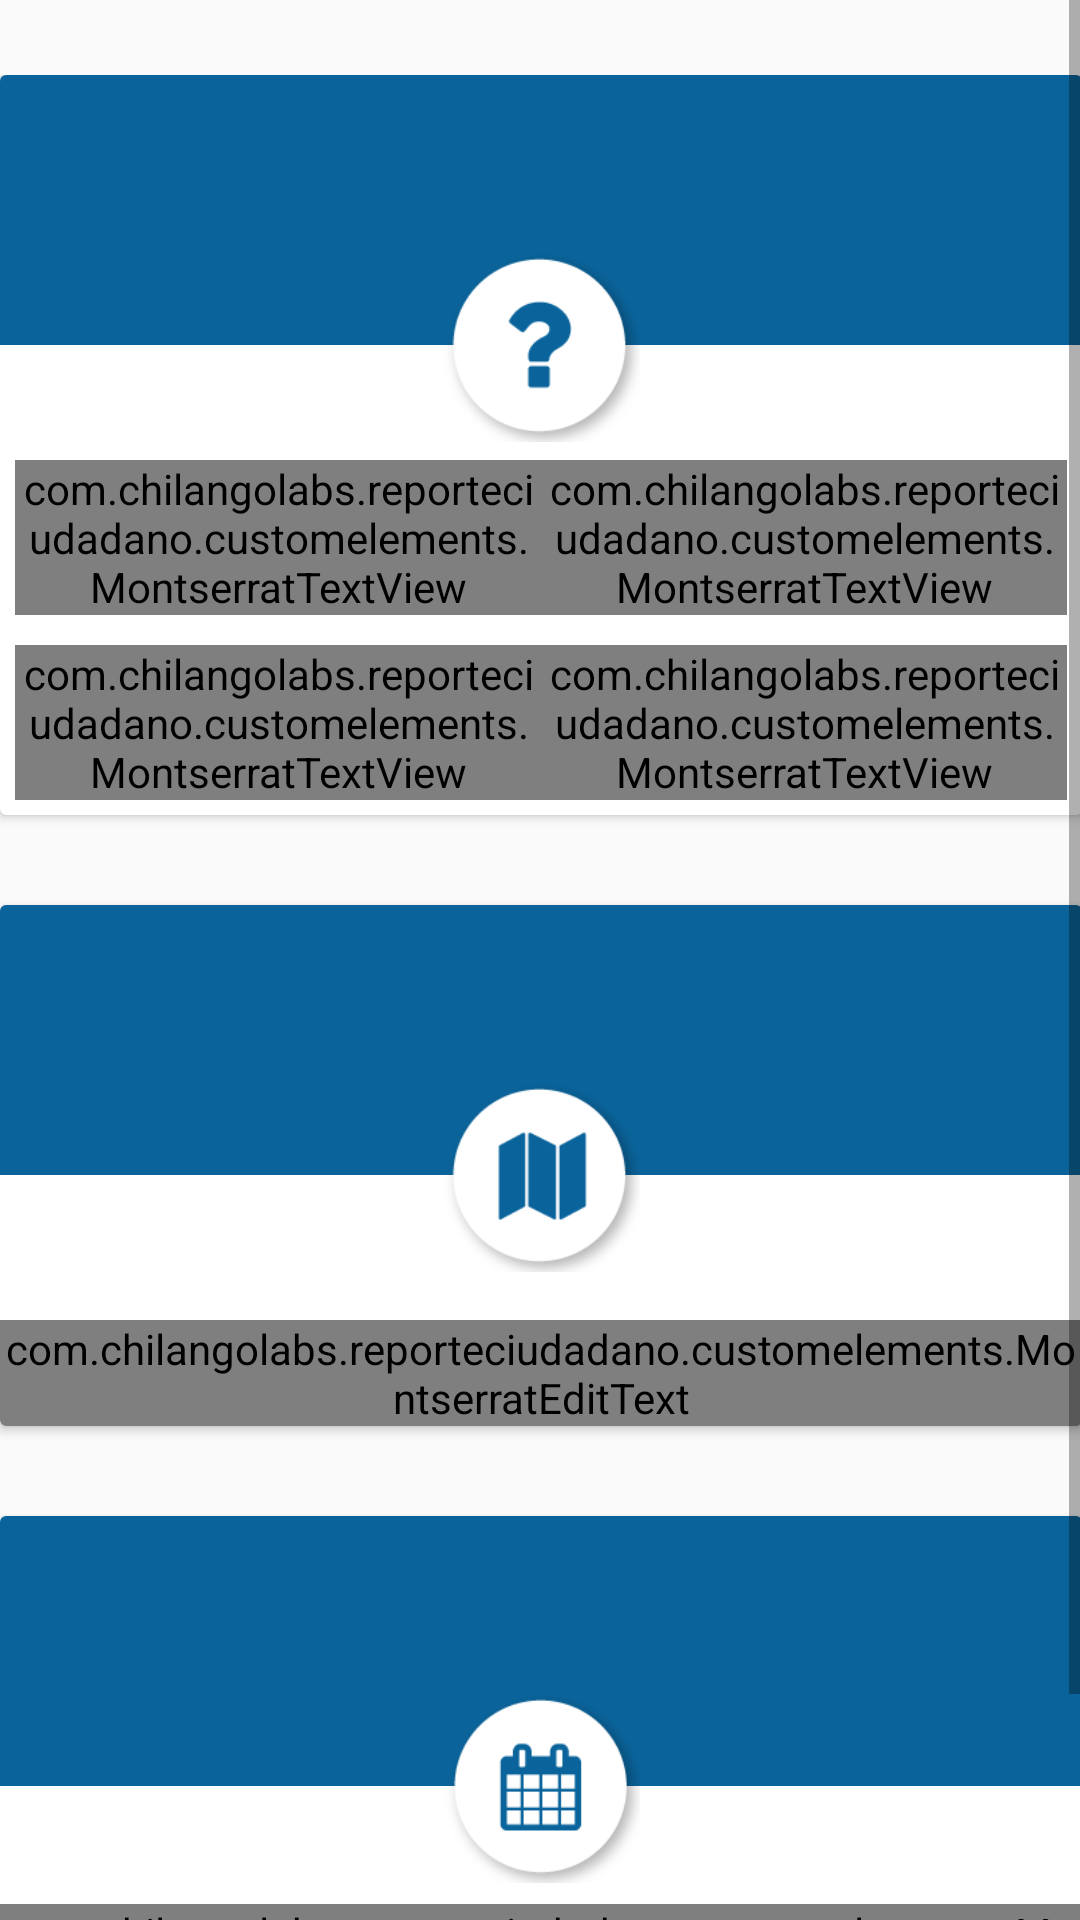

Icon click points for this 1080 x 1920 phone screenshot, format (x=x, y=y):
cardheadercalendar: (x=541, y=1787)
cardheadermaps: (x=541, y=1176)
cardheaderquestion: (x=541, y=346)
